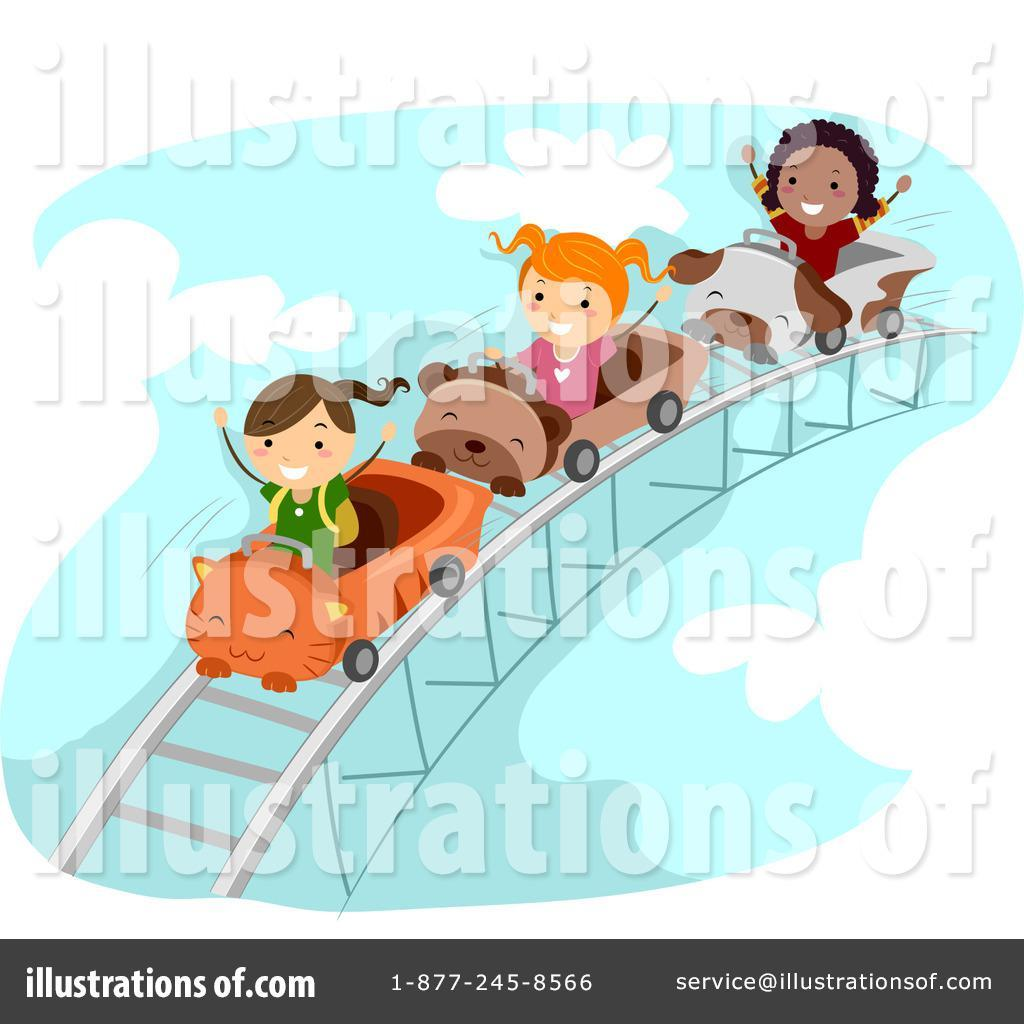cat: (156, 528, 381, 707)
dog: (661, 226, 852, 381)
person: (209, 359, 380, 575), (481, 207, 646, 410), (730, 112, 887, 281)
